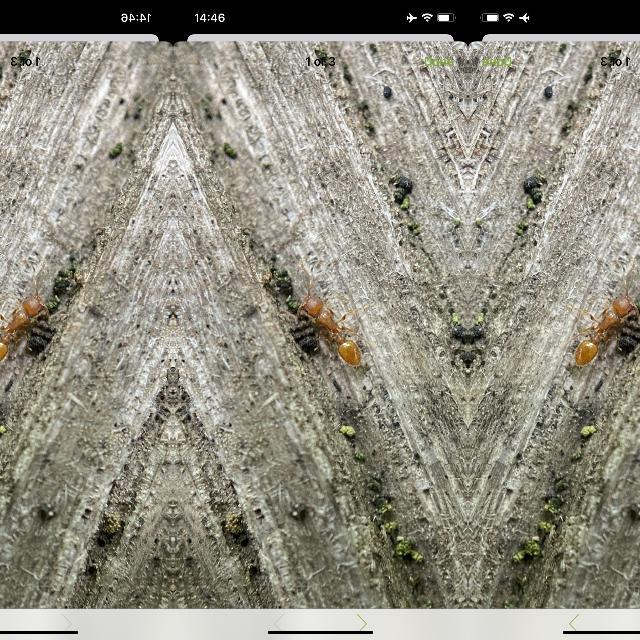Temnothorax: (293, 270, 369, 382), (566, 270, 640, 380), (0, 269, 50, 380)
